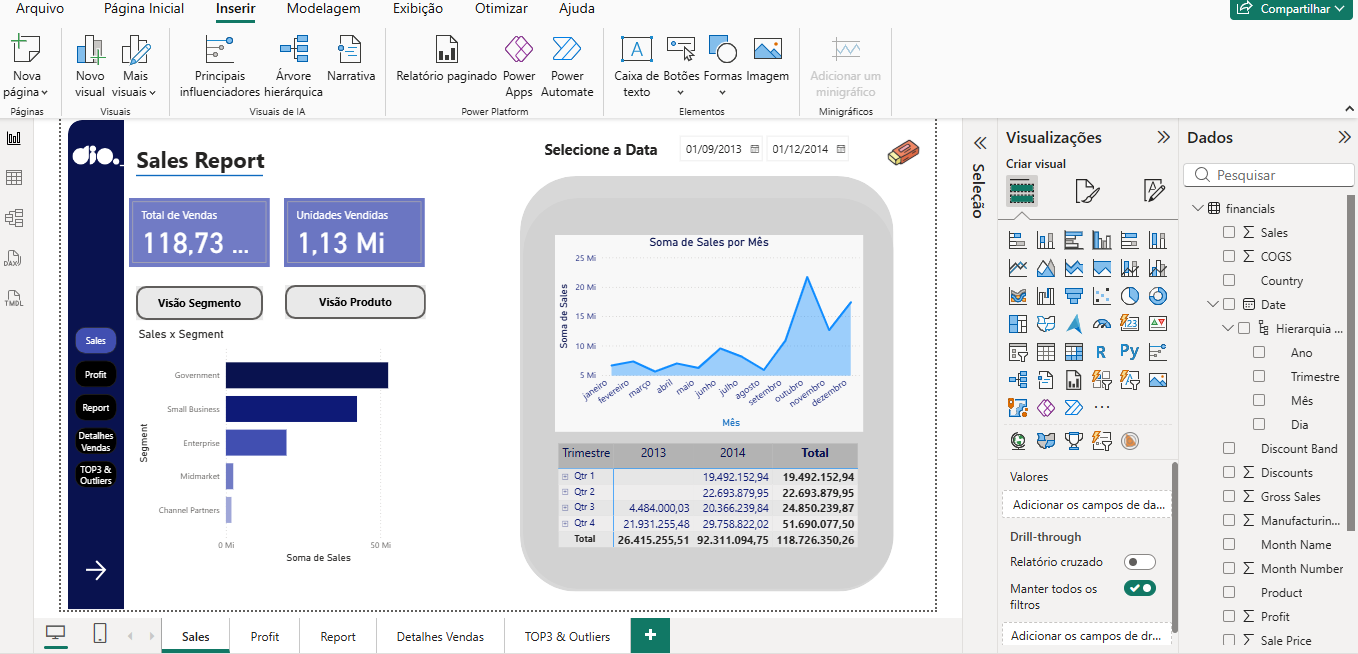

The dashboard page shown, as its layout file describes it:
{"tool":"powerbi","page":{"name":"Sales","canvas":[1280,720],"ordinal":0},"visuals":[{"type":"shape","box":[10.3,3.4,82.2,716.3],"z":0},{"type":"slicer","fields":{"Values":["financials.Date"]},"box":[892.8,16.1,300,62.9],"z":0,"group":"g3"},{"type":"image","title":"Borracha","box":[1202.5,17,60,65.9],"z":0,"group":"g2"},{"type":"textbox","box":[104.8,33.7,237.1,89.3],"z":0,"group":"g4"},{"type":"shape","box":[321,117.1,220,101],"z":0,"group":"g1"},{"type":"actionButton","title":"Botão - Segmento","box":[109.8,245.9,185.9,49.8],"z":0,"group":"g6"},{"type":"shape","box":[109.4,0,185.9,168.3],"z":1000,"group":"g4"},{"type":"textbox","box":[702.4,25.7,191.7,57.1],"z":1000,"group":"g3"},{"type":"actionButton","box":[1190.8,30.2,82,38],"z":1000,"group":"g2"},{"type":"group","id":"g1","title":"Cartões","box":[99.5,117.1,442,101],"z":1000},{"type":"shape","box":[102.4,117.1,205.2,101],"z":1000,"group":"g1"},{"type":"actionButton","title":"Botão - Produto","box":[328.1,245,206.3,49.8],"z":1000,"group":"g5"},{"type":"clusteredBarChart","title":"Sales x Segment","fields":{"Category":["financials.Segment"],"Y":["Sum(financials. Sales)"]},"box":[108.3,305.9,424.4,349.8],"z":1000,"group":"g6"},{"type":"group","id":"g2","title":"Borracha-Botão","box":[1190.8,17,82,65.9],"z":2000,"group":"g3"},{"type":"cardVisual","fields":{"Data":["Sum(financials. Sales)"]},"box":[99.5,117.1,206.3,101],"z":2000,"group":"g1"},{"type":"clusteredBarChart","fields":{"Category":["financials.Product"],"Y":["Sum(financials. Sales)"]},"box":[109.7,304.2,423.2,349.6],"z":2000,"group":"g5"},{"type":"shape","box":[102.4,440.5,377.6,203.4],"z":2000},{"type":"image","title":"logo DIO","box":[10.2,16.1,92.2,77.6],"z":3000},{"type":"cardVisual","fields":{"Data":["Sum(financials.Units Sold)"]},"box":[326.3,117.1,206.3,101],"z":3000,"group":"g1"},{"type":"group","id":"g3","title":"Filtro por Data","box":[702.4,16.1,570.7,67.3],"z":4000},{"type":"group","id":"g4","title":"Title Report","box":[104.8,0,237.1,168.3],"z":5000},{"type":"shape","box":[676.1,117.1,543.2,572.3],"z":6000},{"type":"shape","box":[671.7,84.9,546.6,608.3],"z":7000},{"type":"areaChart","fields":{"Category":["financials.Date.Variation.Hierarquia de datas.Mês"],"Y":["Sum(financials. Sales)"]},"box":[722.9,171.2,450.7,287.9],"z":8000},{"type":"actionButton","box":[30.8,642.6,39.5,39.5],"z":9000},{"type":"pivotTable","fields":{"Columns":["financials.Date.Variation.Hierarquia de datas.Ano"],"Rows":["financials.Date.Variation.Hierarquia de datas.Trimestre","financials.Date.Variation.Hierarquia de datas.Mês"],"Values":["Sum(financials. Sales)"]},"box":[723.1,471.2,454.1,191.9],"z":10000},{"type":"group","id":"g5","title":"Produto Sales","box":[109.7,245,425,407.8],"z":11000},{"type":"group","id":"g6","title":"Segmento Produto","box":[108.3,245.9,424.4,409.8],"z":12000},{"type":"pageNavigator","box":[20.5,305.9,61.7,236.5],"z":13000}]}

Visuals, with their boxes on the page's 1280x720 design canvas (x1, y1, x2, y2). These are canvas units, not pixel positions in the 1358x654 screenshot, which may show the page scaled, cropped or inside an application window:
shape: [10,3,92,720]
slicer - financials.Date: [893,16,1193,79]
"Borracha" image: [1202,17,1262,83]
textbox: [105,34,342,123]
shape: [321,117,541,218]
"Botão - Segmento" actionButton: [110,246,296,296]
shape: [109,0,295,168]
textbox: [702,26,894,83]
actionButton: [1191,30,1273,68]
"Cartões" group: [100,117,542,218]
shape: [102,117,308,218]
"Botão - Produto" actionButton: [328,245,534,295]
"Sales x Segment" clusteredBarChart: [108,306,533,656]
"Borracha-Botão" group: [1191,17,1273,83]
cardVisual - Sum(financials. Sales): [100,117,306,218]
clusteredBarChart - financials.Product x Sum(financials. Sales): [110,304,533,654]
shape: [102,440,480,644]
"logo DIO" image: [10,16,102,94]
cardVisual - Sum(financials.Units Sold): [326,117,533,218]
"Filtro por Data" group: [702,16,1273,83]
"Title Report" group: [105,0,342,168]
shape: [676,117,1219,689]
shape: [672,85,1218,693]
areaChart - financials.Date.Variation.Hierarquia de datas.Mês x Sum(financials. Sales): [723,171,1174,459]
actionButton: [31,643,70,682]
pivotTable - financials.Date.Variation.Hierarquia de datas.Ano x financials.Date.Variation.Hierarquia de datas.Trimestre: [723,471,1177,663]
"Produto Sales" group: [110,245,535,653]
"Segmento Produto" group: [108,246,533,656]
pageNavigator: [20,306,82,542]
